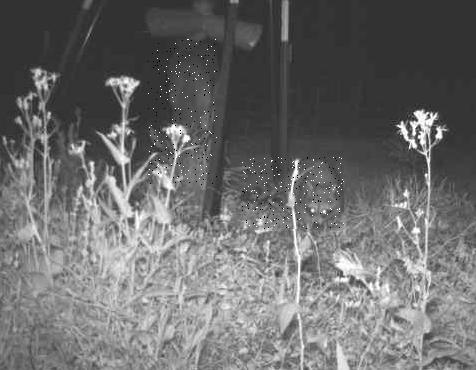Deer: (148, 40, 217, 186)
Raccoon: (241, 158, 344, 230)
